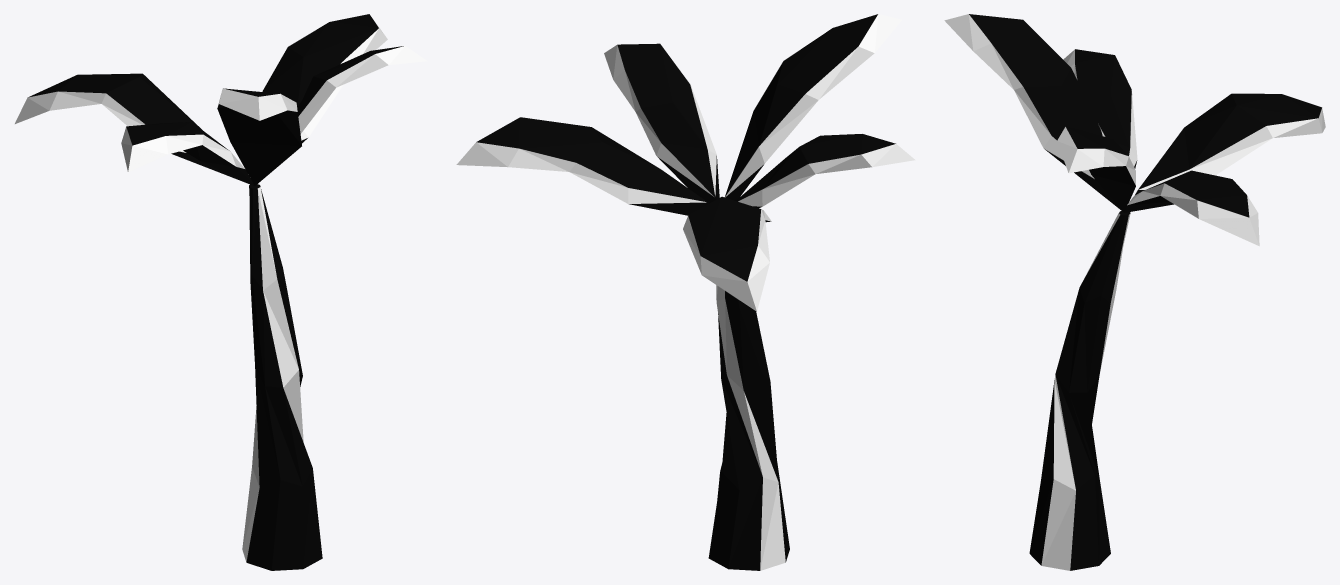
The model's file is palm01.fbx.
The picture shows the model from 3 angles, left to right: view 1: azimuth 30°, elevation 25°; view 2: azimuth 150°, elevation 25°; view 3: azimuth 270°, elevation 25°; orthographic projection. The views are drawn at different scales.
Parts seen in each view (by area): view 1: pCylinder2; view 2: pCylinder2; view 3: pCylinder2.
Boxes of the visible parts, x1,y1,x2,y2 form: pCylinder2: [15, 14, 427, 570]; pCylinder2: [456, 14, 915, 570]; pCylinder2: [944, 14, 1325, 570].
Bounding box in the file's own units: 3.07 × 2.94 × 4.28.
